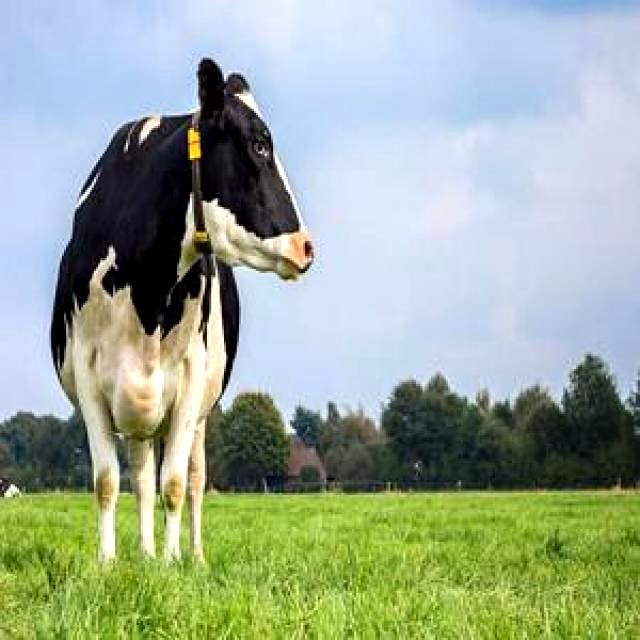COW: (51, 59, 314, 562)
